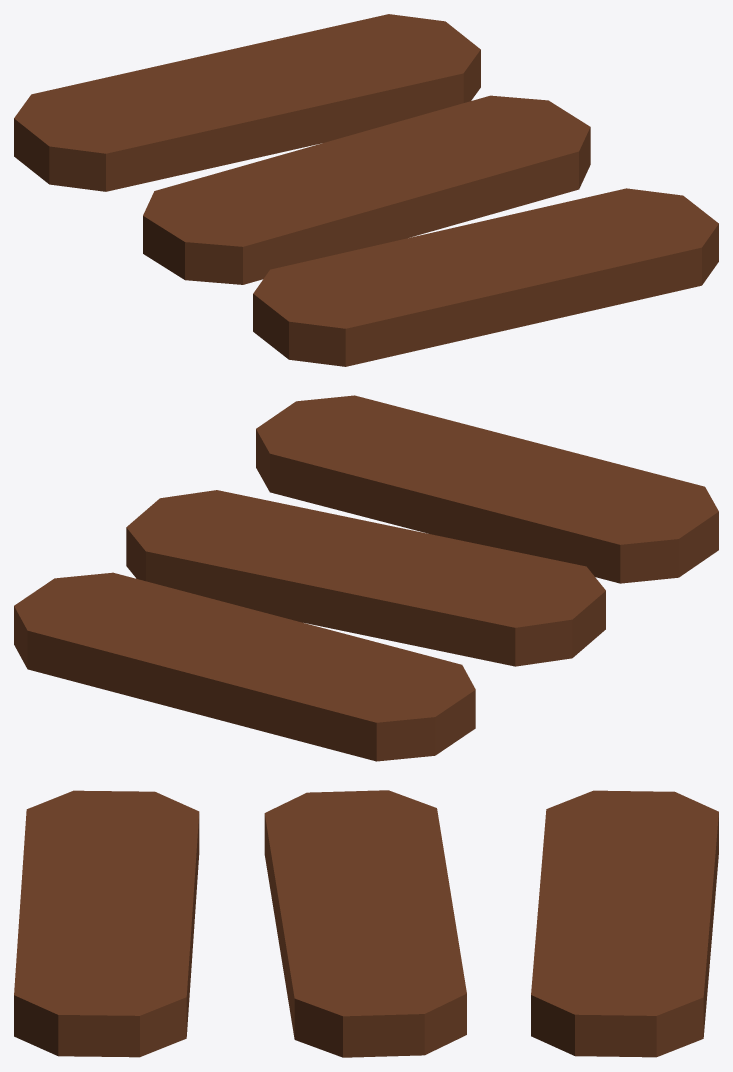
Rendered from plank-3.fbx.
3 views of the same model, one above another, from view 1: azimuth 30°, elevation 25°; view 2: azimuth 150°, elevation 25°; view 3: azimuth 270°, elevation 25° (orthographic). The views are drawn at different scales.
Visible parts, largest first — view 1: plank-3; view 2: plank-3; view 3: plank-3.
Boxes of the visible parts, box(x1,y1,x2,y2) form: plank-3: box(14, 14, 718, 366); plank-3: box(14, 395, 718, 761); plank-3: box(14, 790, 718, 1057).
Size of the model in its own units: 81.99 by 7 by 108.
